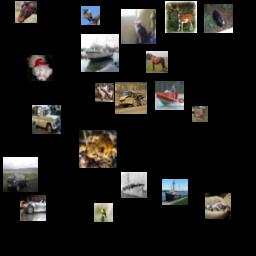automobile: (3, 157, 38, 192), (20, 195, 46, 221)
bird: (204, 4, 233, 33), (94, 203, 113, 222), (81, 6, 100, 25)
cat: (121, 9, 156, 44)
deer: (165, 1, 197, 33), (192, 106, 208, 122)
dog: (205, 193, 231, 219), (27, 55, 53, 81)
frog: (79, 130, 117, 168)
ship: (81, 34, 119, 72), (155, 81, 184, 110), (162, 179, 188, 205), (121, 172, 147, 198)
truck: (115, 82, 147, 114), (32, 105, 61, 134)
